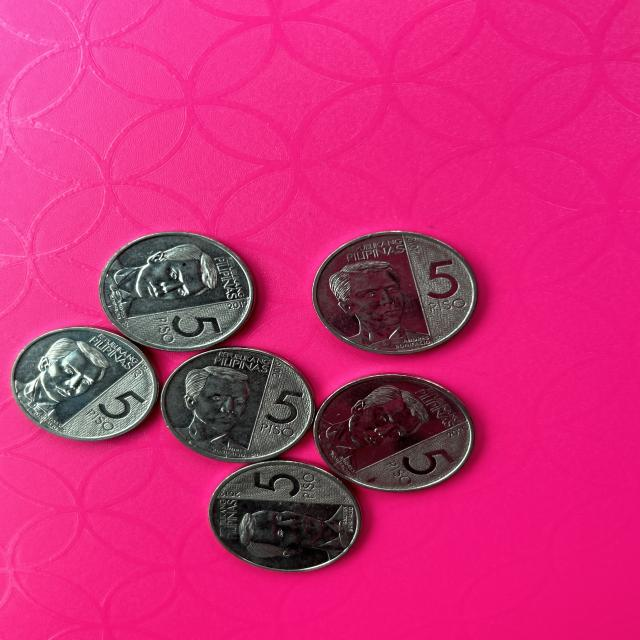5_New_Front: (412, 251, 478, 315), (77, 386, 152, 439), (243, 460, 320, 504), (156, 299, 226, 346), (383, 444, 461, 486), (264, 374, 304, 444)
